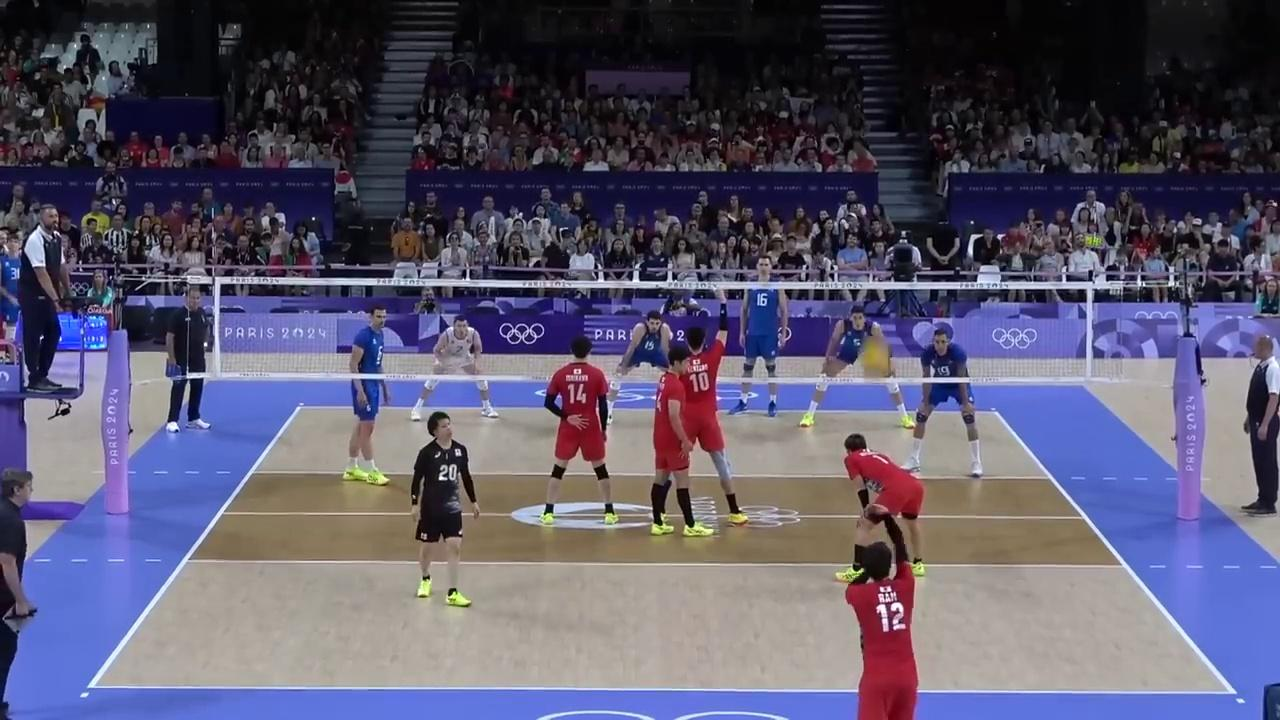ball: (863, 342, 893, 379)
